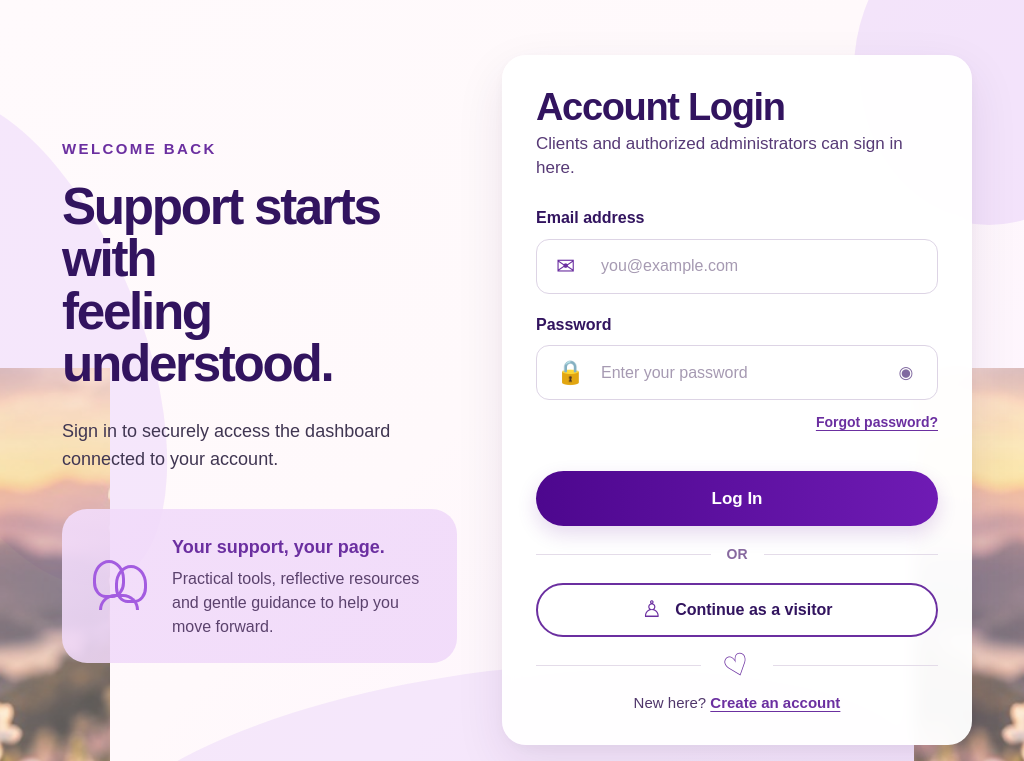
Test: Client Login page › shows friendly message when backend is down
In the field labelled "Email address": (737, 266) [536,239,938,294], type "jane@mail.com"
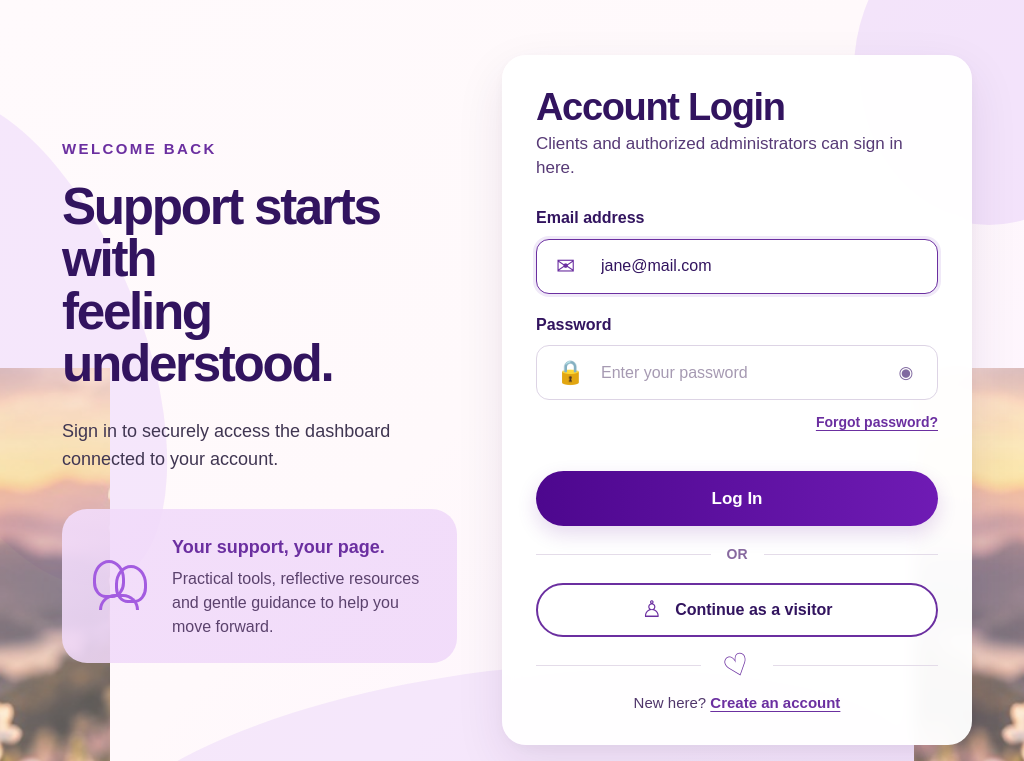
In the password field labelled "Password": (737, 373) [536,345,938,400], type "Password123"
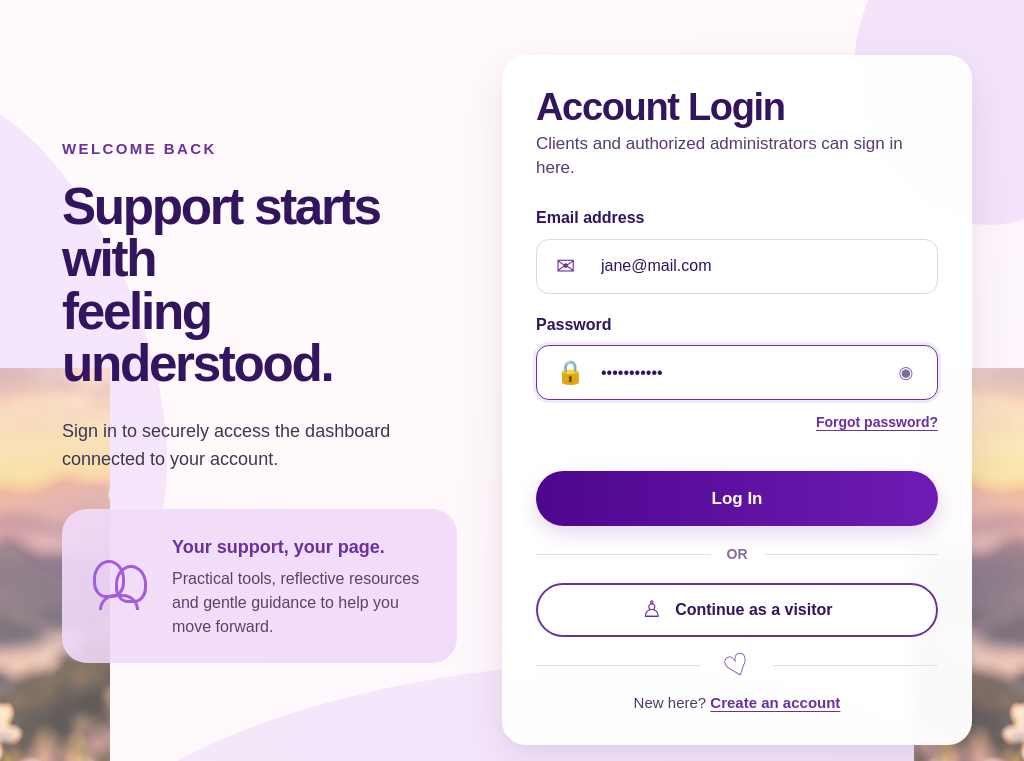
Click the button "Log In": click(737, 499) [536,471,938,526]
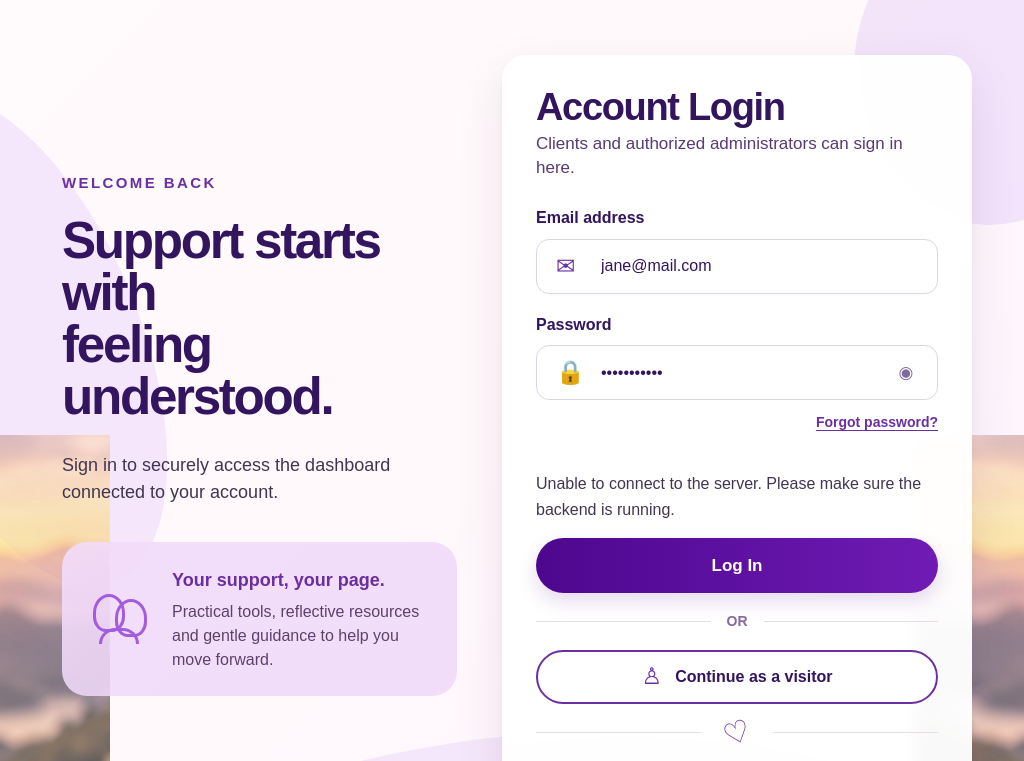
Check: the text "Unable to connect to the server. Please make sure the backend is running." is shown, box [536,471,938,522]
